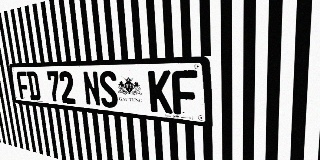2: (58, 71, 76, 104)
7: (46, 71, 62, 103)
D: (26, 71, 41, 101)
F: (171, 70, 198, 116), (16, 71, 30, 100)
K: (148, 70, 173, 114)
N: (82, 71, 101, 107)
S: (98, 71, 119, 109)
